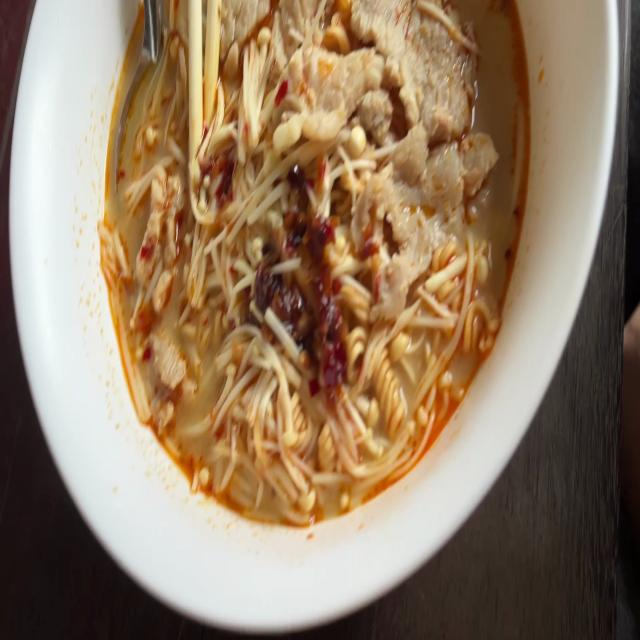noodle: (90, 0, 545, 544)
